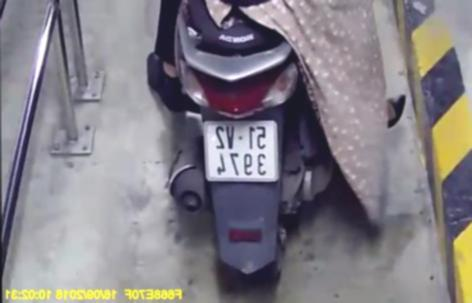License_Plate: (198, 116, 282, 186)
